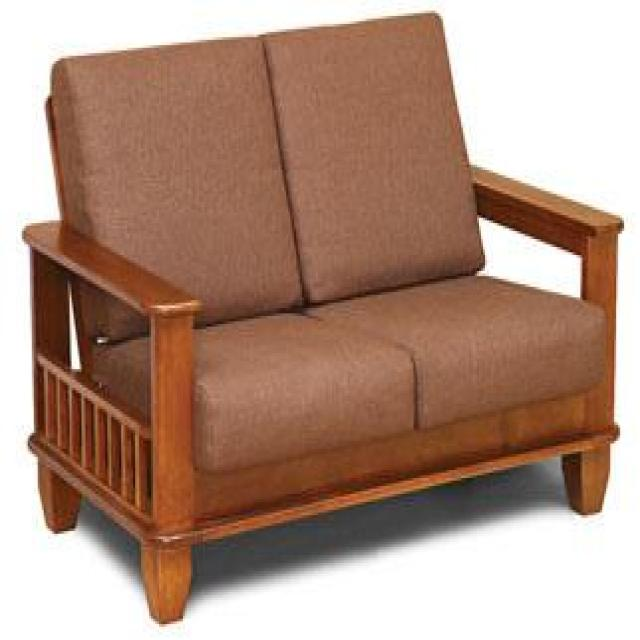sofa: (20, 8, 625, 626)
